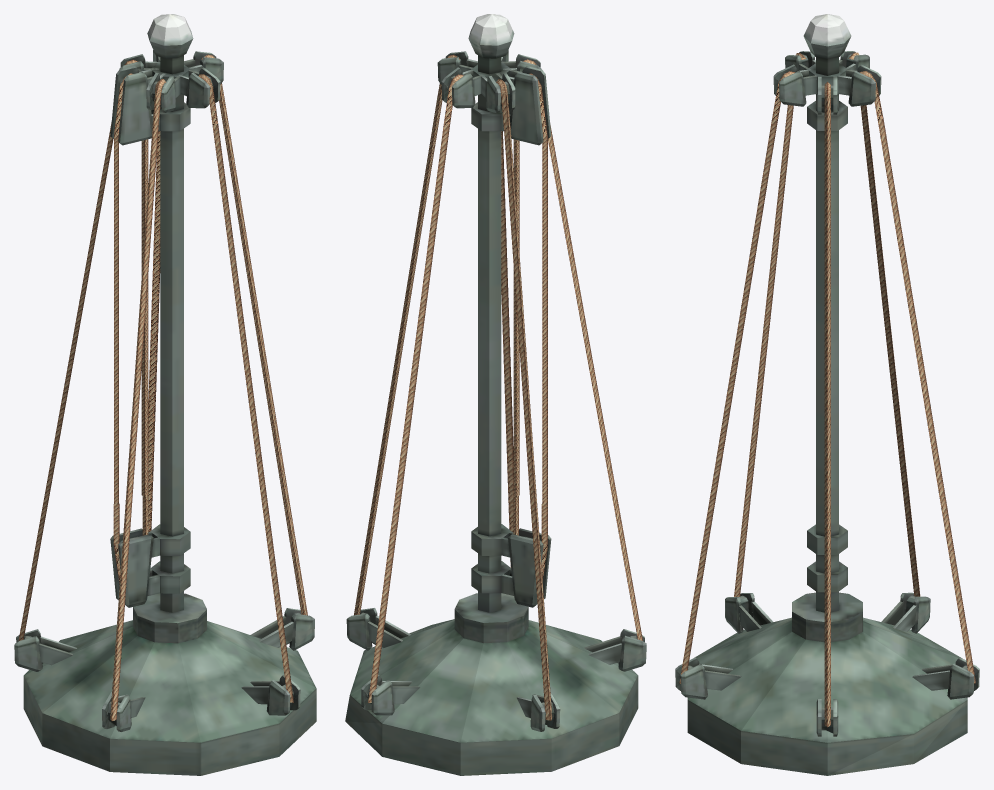
File: C1FLAGPOLE.obj
3 views of the same model, side by side, from view 1: azimuth 30°, elevation 25°; view 2: azimuth 150°, elevation 25°; view 3: azimuth 270°, elevation 25° (orthographic).
Visible parts, largest first — view 1: Node 0, Node 2; view 2: Node 0, Node 2; view 3: Node 0.
Boxes of the visible parts, <box> form: Node 0: <box>14,14,316,775</box>; Node 2: <box>114,73,148,503</box>; Node 0: <box>345,14,646,775</box>; Node 2: <box>513,73,547,503</box>; Node 0: <box>675,14,979,775</box>.
Bounding box in the file's own units: 5.15 × 12.87 × 5.08.
Materials: 3 (3 with a texture image).
